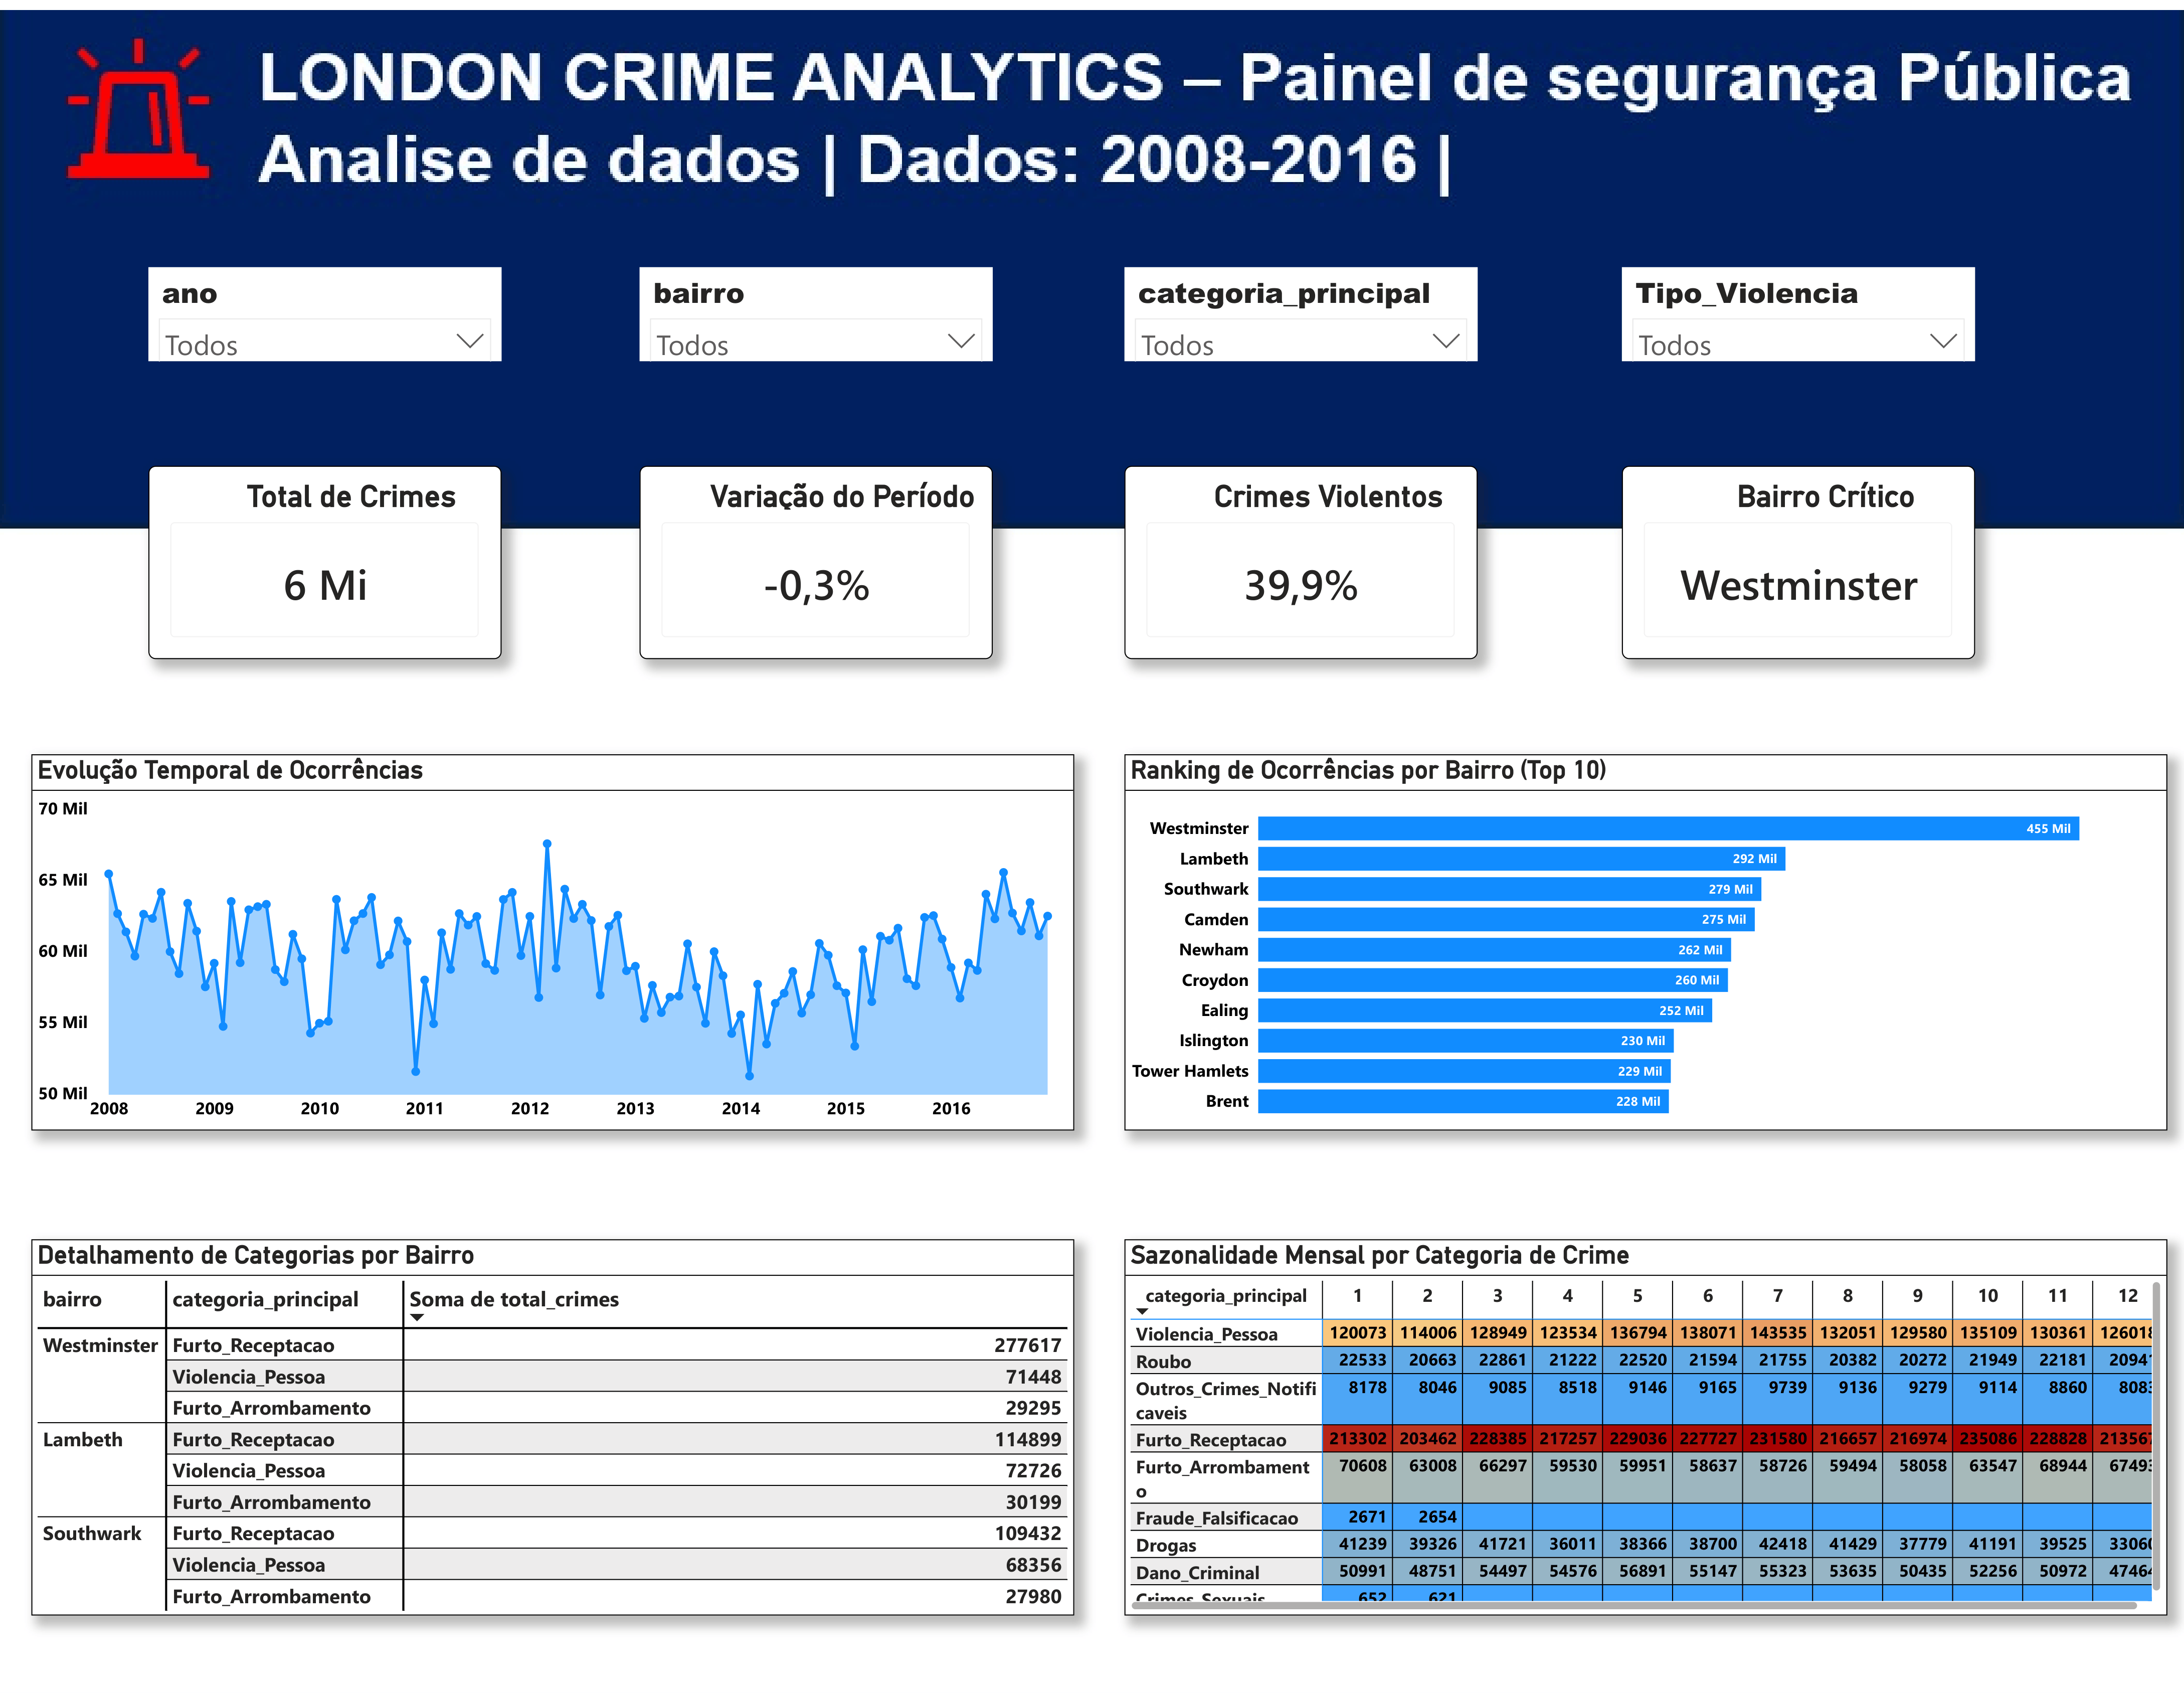

Layout of this report page (visuals, bound fields, positions):
{"tool":"powerbi","page":{"name":"Visão Geral","canvas":[2090,1600],"ordinal":0},"visuals":[{"type":"slicer","fields":{"Values":["ready.ano"]},"box":[142.5,245,337.5,90],"z":0},{"type":"slicer","fields":{"Values":["ready.bairro"]},"box":[612.5,245,337.5,90],"z":1000},{"type":"slicer","fields":{"Values":["ready.categoria_principal"]},"box":[1075,245,337.5,90],"z":2000},{"type":"slicer","fields":{"Values":["ready.Tipo_Violencia"]},"box":[1552.5,245,337.5,90],"z":3000},{"type":"lineChart","title":"Evolução Temporal de Ocorrências","fields":{"Category":["ready.data_crime.Variation.Hierarquia de datas.Ano","ready.data_crime.Variation.Hierarquia de datas.Mês"],"Y":["Sum(ready.total_crimes)"]},"box":[30,712.5,997.5,360],"z":4000},{"type":"barChart","title":"Ranking de Ocorrências por Bairro (Top 10)","fields":{"Y":["Sum(ready.total_crimes)"],"Category":["ready.bairro"]},"box":[1075,712.5,997.5,360],"z":5000},{"type":"pivotTable","title":"Detalhamento de Categorias por Bairro","fields":{"Rows":["ready.bairro","ready.categoria_principal"],"Values":["Sum(ready.total_crimes)"]},"box":[30,1175,997.5,360],"z":6000},{"type":"pivotTable","title":"Sazonalidade Mensal por Categoria de Crime","fields":{"Columns":["ready.mes"],"Rows":["ready.categoria_principal"],"Values":["Sum(ready.total_crimes)"]},"box":[1075,1175,997.5,360],"z":7000},{"type":"cardVisual","title":"📊 Total de Crimes","fields":{"Data":["Sum(ready.total_crimes)"]},"box":[142.5,435,337.5,185],"z":8000},{"type":"cardVisual","title":"📉 Variação do Período","fields":{"Data":["ready.Variacao_Anual_Crime1"]},"box":[612.5,435,337.5,185],"z":9000},{"type":"cardVisual","title":"🔴 Crimes Violentos","fields":{"Data":["ready.Pct_Crimes_Violentos"]},"box":[1075,435,337.5,185],"z":10000},{"type":"cardVisual","title":"🏙️ Bairro Crítico","fields":{"Data":["ready.Bairro_Critico"]},"box":[1552.5,435,337.5,185],"z":11000}]}

Visuals, with their boxes in screenshot pixels (x1, y1, x2, y2), scaled from the page's 2090x1600 canvas onto the 2184x1693 screenshot:
slicer - ready.ano: (x1=149, y1=259, x2=501, y2=355)
slicer - ready.bairro: (x1=640, y1=259, x2=993, y2=355)
slicer - ready.categoria_principal: (x1=1124, y1=259, x2=1476, y2=355)
slicer - ready.Tipo_Violencia: (x1=1622, y1=259, x2=1975, y2=355)
"Evolução Temporal de Ocorrências" lineChart: (x1=32, y1=754, x2=1074, y2=1135)
"Ranking de Ocorrências por Bairro (Top 10)" barChart: (x1=1124, y1=754, x2=2166, y2=1135)
"Detalhamento de Categorias por Bairro" pivotTable: (x1=32, y1=1243, x2=1074, y2=1624)
"Sazonalidade Mensal por Categoria de Crime" pivotTable: (x1=1124, y1=1243, x2=2166, y2=1624)
"📊 Total de Crimes" cardVisual: (x1=149, y1=460, x2=501, y2=656)
"📉 Variação do Período" cardVisual: (x1=640, y1=460, x2=993, y2=656)
"🔴 Crimes Violentos" cardVisual: (x1=1124, y1=460, x2=1476, y2=656)
"🏙️ Bairro Crítico" cardVisual: (x1=1622, y1=460, x2=1975, y2=656)
